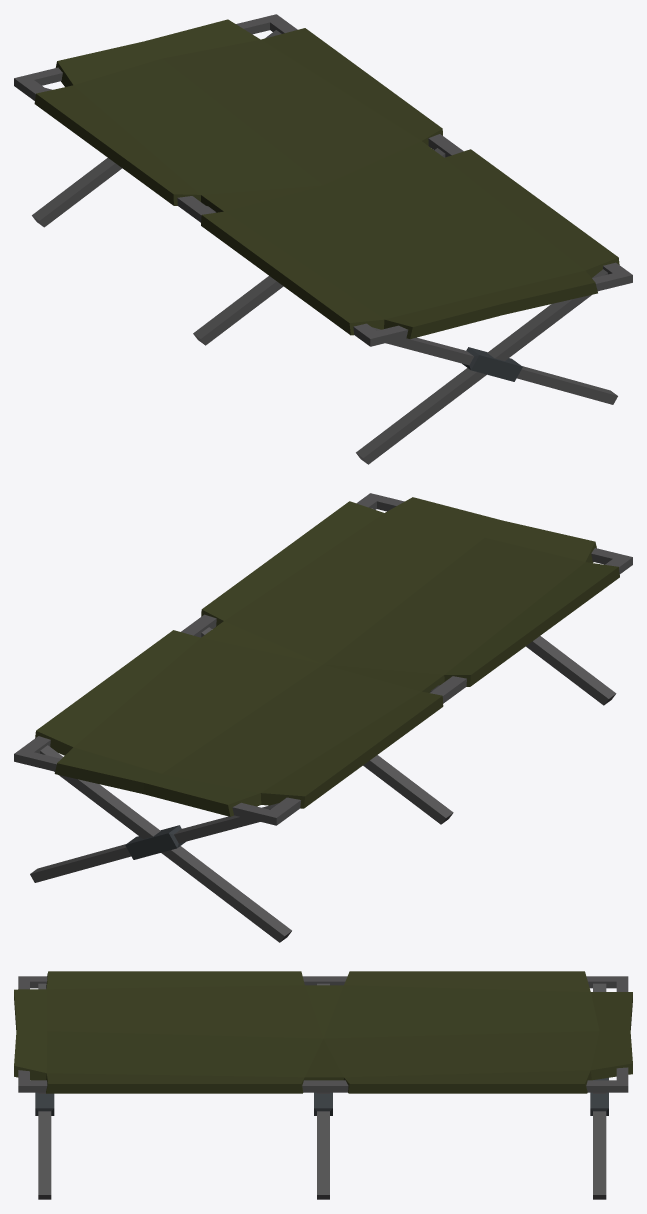
File: SM_Prop_Bed_Stretcher_01.glb
3 renders of one model, top to bottom at view 1: azimuth 30°, elevation 25°; view 2: azimuth 150°, elevation 25°; view 3: azimuth 270°, elevation 25°, orthographic. The views are drawn at different scales.
Visible parts, largest first — view 1: SM_Prop_Bed_Stretcher_01; view 2: SM_Prop_Bed_Stretcher_01; view 3: SM_Prop_Bed_Stretcher_01.
Part boxes in pixels (x1,y1,x2,y2): SM_Prop_Bed_Stretcher_01: [14, 14, 632, 464]; SM_Prop_Bed_Stretcher_01: [14, 493, 632, 942]; SM_Prop_Bed_Stretcher_01: [14, 971, 632, 1199].
Size of the model in its own units: 1.04 by 0.5208 by 2.43.
Materials: 1 (1 with a texture image).
